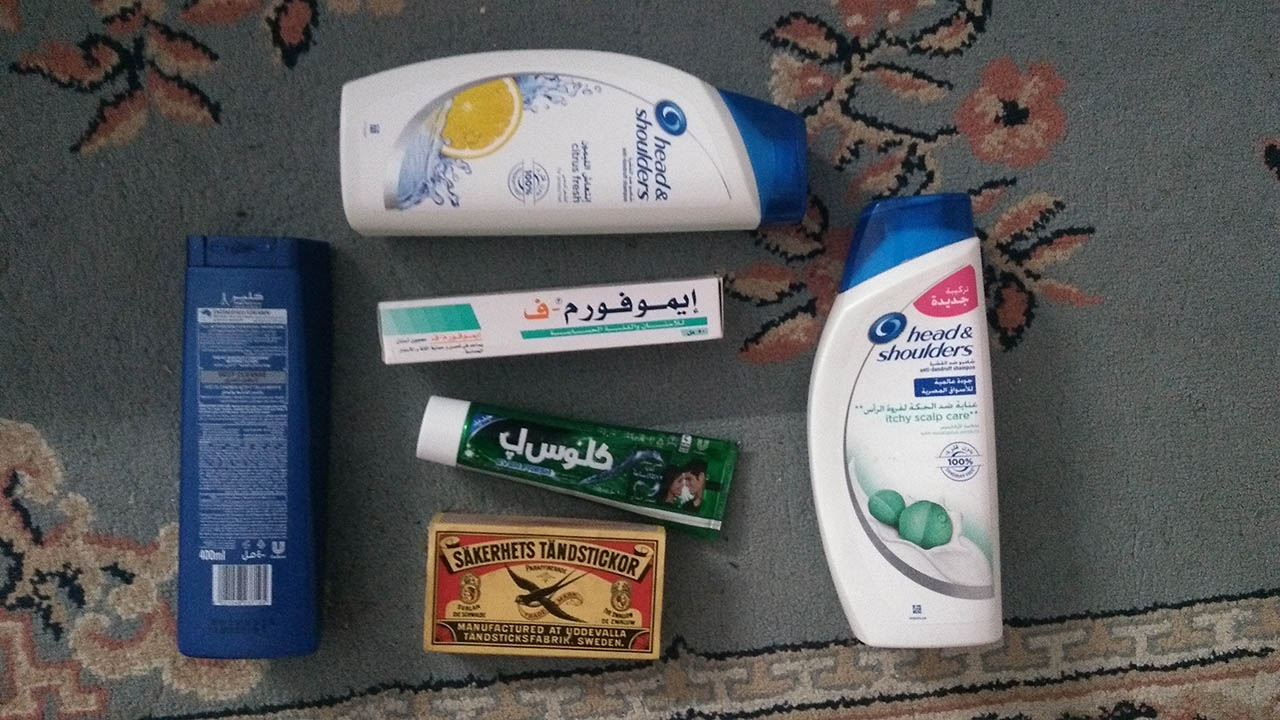Shampoo-Clear 4.7$: (179, 229, 324, 656)
Toothpaste-Closeup 3.04$: (403, 386, 749, 534)
Toothpaste-F 1.5$: (368, 276, 728, 369)
match-sticks .90$: (423, 523, 667, 659)
shampoo-Lemon 3.5$: (332, 47, 820, 234)
shampoo-green 4.5$: (814, 188, 977, 665)
